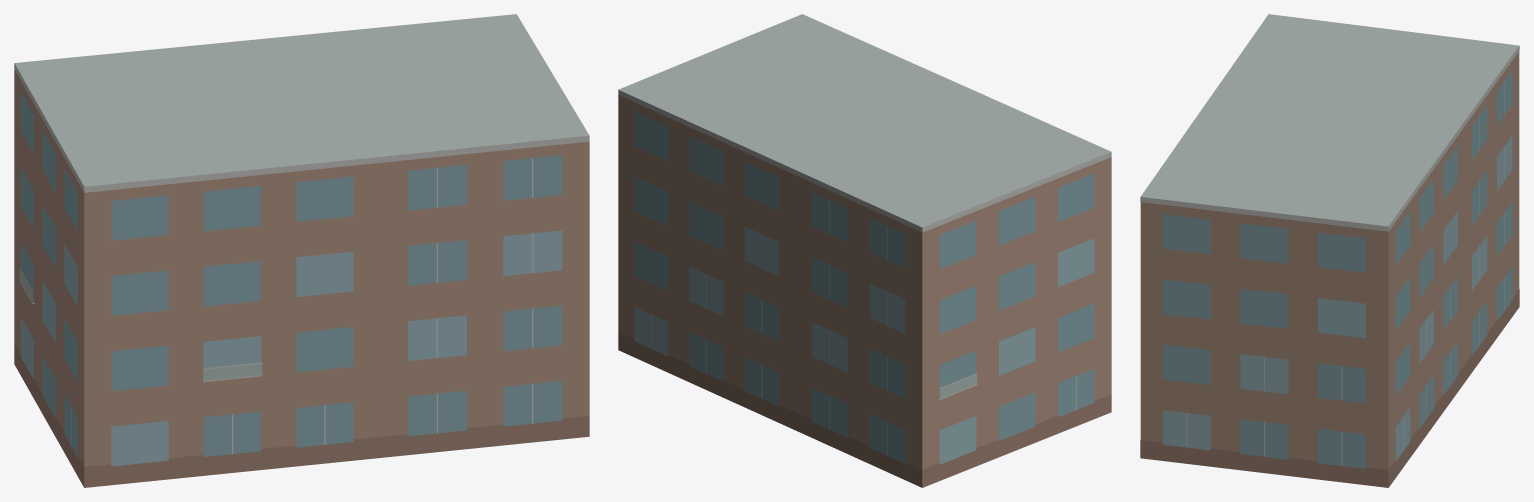
File: survey-upis-32871970.glb
3 views of the same model, side by side, from view 1: azimuth 30°, elevation 25°; view 2: azimuth 150°, elevation 25°; view 3: azimuth 270°, elevation 25° (orthographic). The views are drawn at different scales.
Parts seen in each view (by area): view 1: survey-upis-32871970.tmp; view 2: survey-upis-32871970.tmp; view 3: survey-upis-32871970.tmp.
Boxes of the visible parts, <box> form: survey-upis-32871970.tmp: <box>14,14,589,487</box>; survey-upis-32871970.tmp: <box>618,14,1111,487</box>; survey-upis-32871970.tmp: <box>1140,14,1519,487</box>.
Size of the model in its own units: 21.45 by 12.3 by 16.17.
